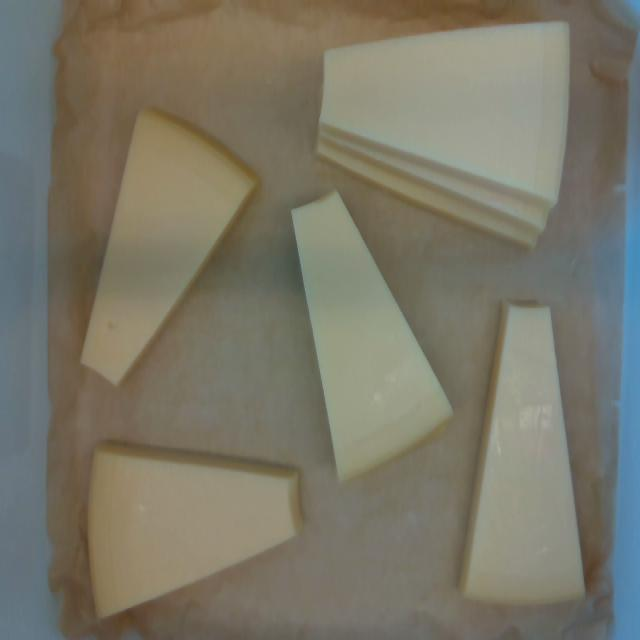cheese: (81, 112, 255, 384), (321, 24, 568, 207), (293, 193, 451, 479), (460, 301, 584, 601), (89, 445, 300, 616)
